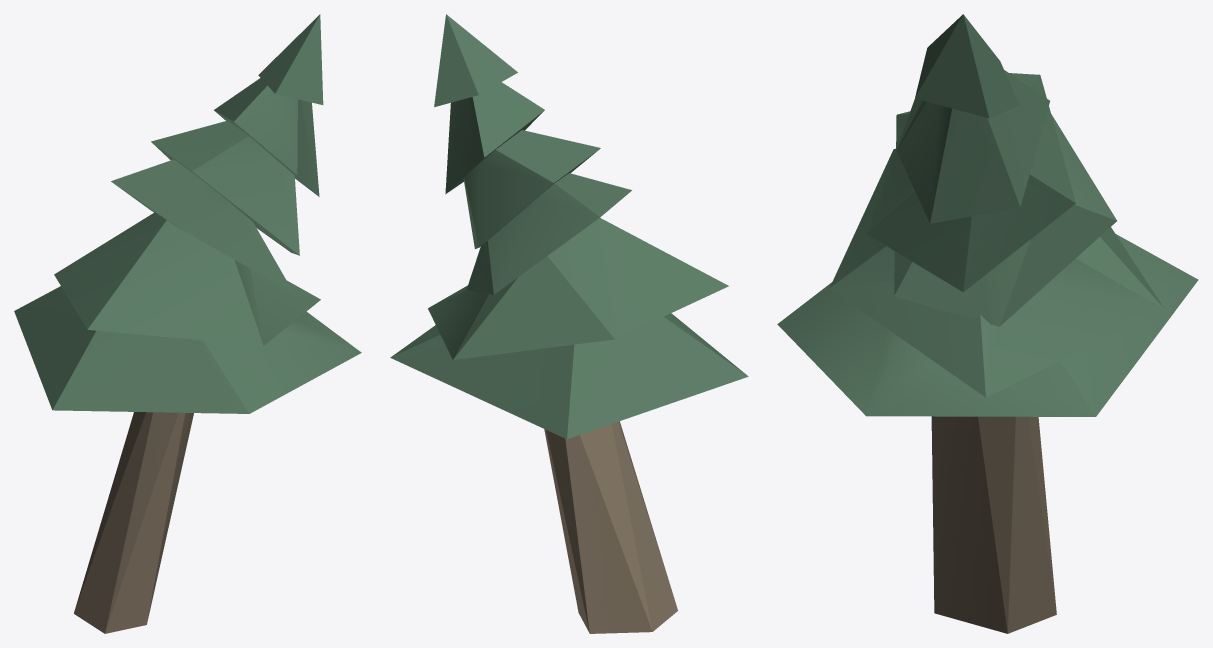
File: Vegetation_Tree_Alpine_05.fbx
3 views of the same model, side by side, from view 1: azimuth 30°, elevation 25°; view 2: azimuth 150°, elevation 25°; view 3: azimuth 270°, elevation 25° (orthographic). The views are drawn at different scales.
Parts seen in each view (by area): view 1: Vegetation_Tree_Alpine_05; view 2: Vegetation_Tree_Alpine_05; view 3: Vegetation_Tree_Alpine_05.
Part boxes in pixels (left/top/right/bottom): Vegetation_Tree_Alpine_05: left=14, top=14, right=361, bottom=633; Vegetation_Tree_Alpine_05: left=390, top=14, right=748, bottom=633; Vegetation_Tree_Alpine_05: left=777, top=14, right=1198, bottom=633.
Bounding box in the file's own units: 155 × 278 × 148.
